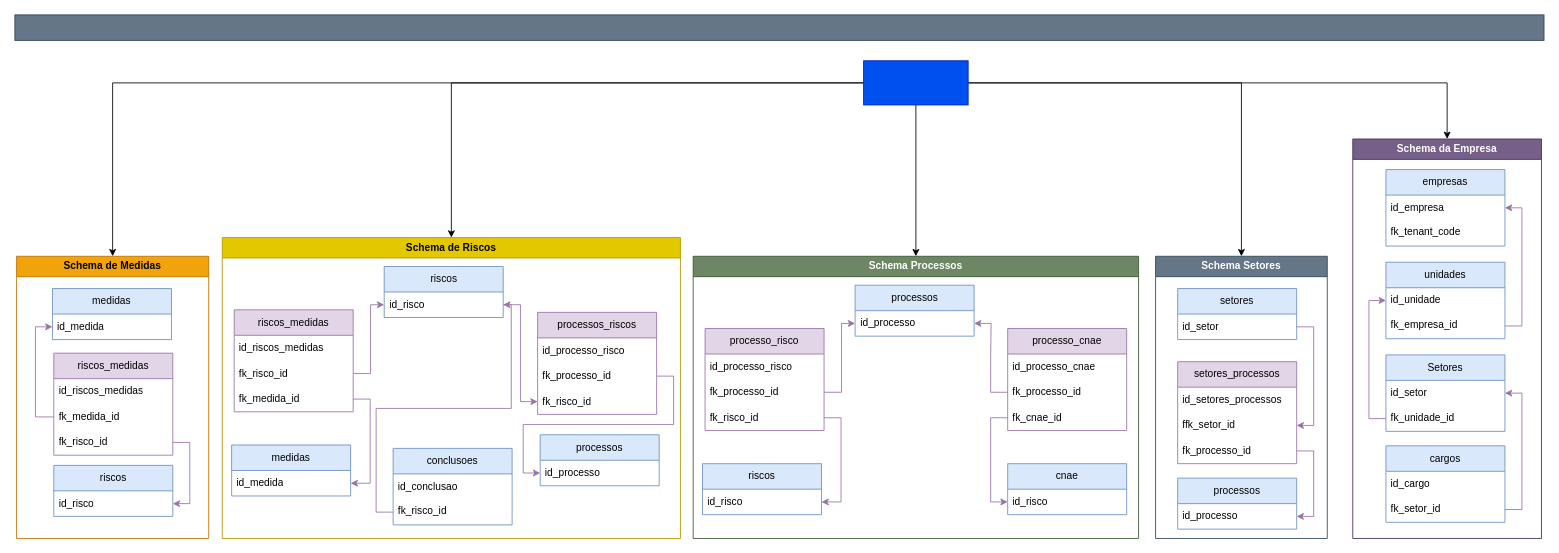
Some shapes in this 1559 by 553 pixel diagram are drawn without their labels. Here are the shapes that lost their labels. From the top down, the centre of each, then its label:
At (x=779, y=27): "Vinculos".
At (x=915, y=82): "Tenant".
